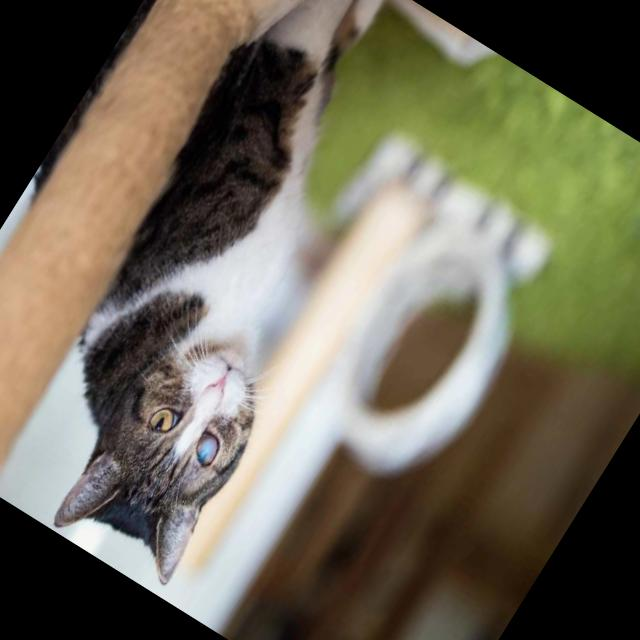cat-eye: (183, 419, 232, 474)
cat-eye-normal: (137, 391, 191, 449)
